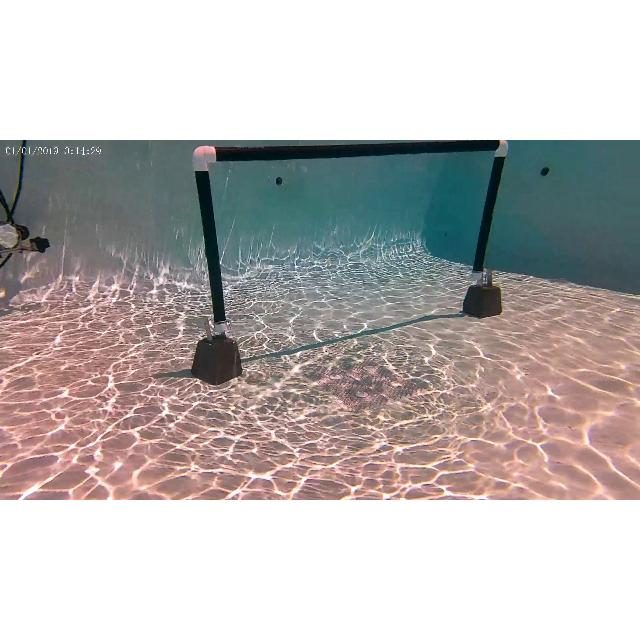prequal gate: (192, 140, 508, 334)
prequal gate leg l: (190, 144, 247, 382)
prequal gate leg r: (462, 140, 512, 318)
